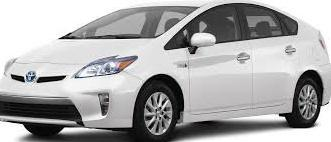Cars: (1, 2, 331, 141)
